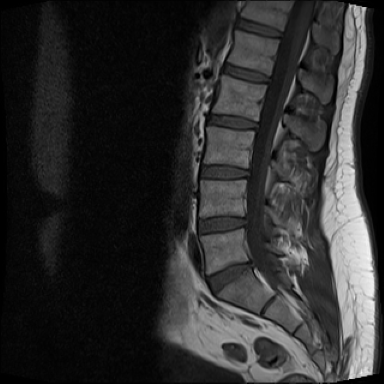Lumbar Disc Bulge (LDB): (202, 256, 257, 299), (194, 212, 253, 238)
Normal IVD: (233, 14, 286, 41), (219, 59, 273, 85), (204, 108, 261, 132), (196, 162, 252, 181)
Spinal Stenosis (SS): (238, 212, 254, 231), (247, 255, 259, 271)
